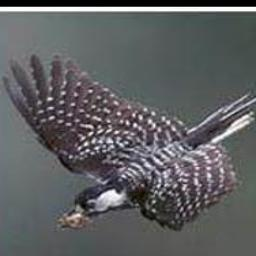Woodpecker: (0, 45, 256, 238)
